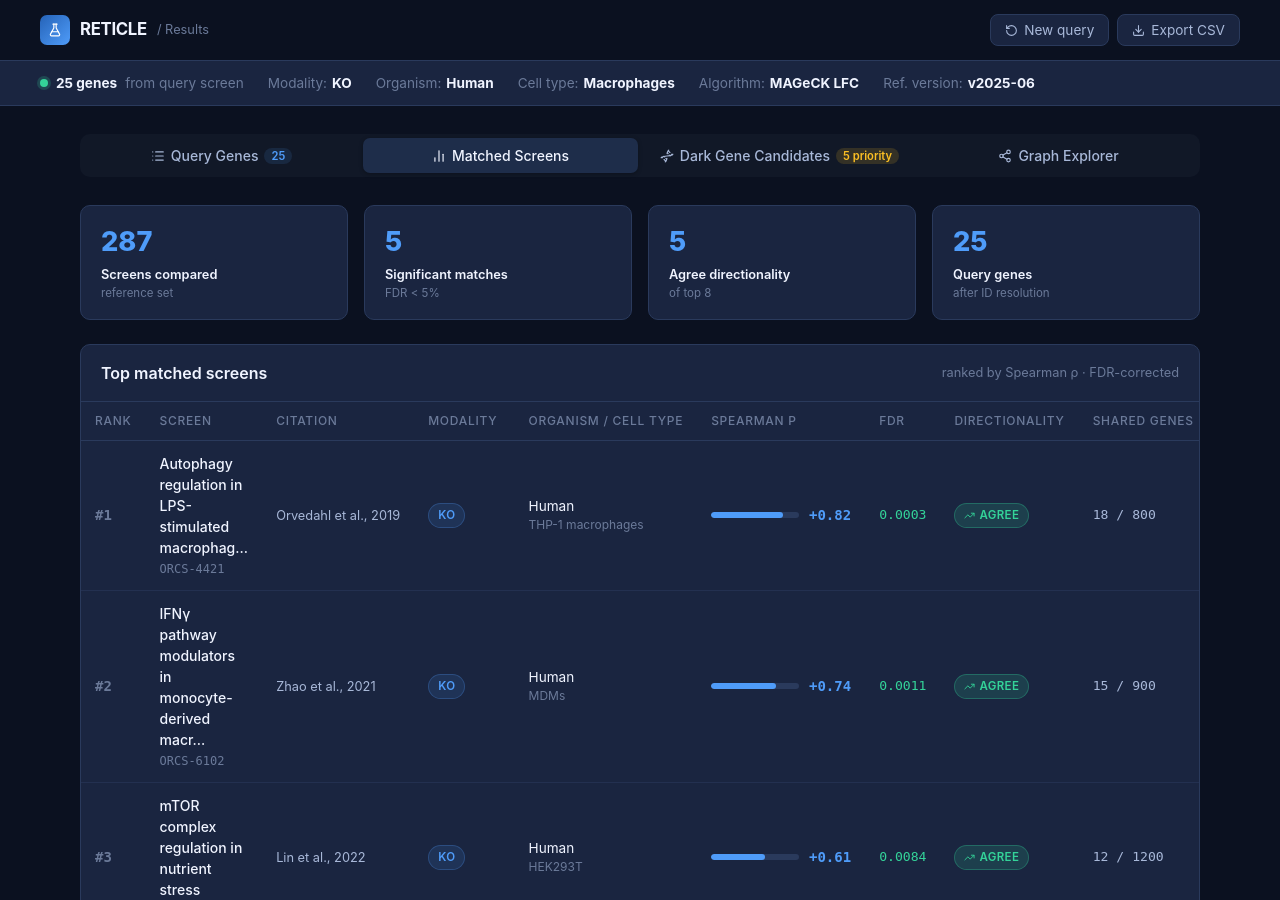
Test: ResultsPage › Query Genes tab shows the uploaded genes
The image size is (1280, 900).
Click the button "Query Genes 25". click: [222, 156]
box: [84,138,359,173]
(page scrolled)
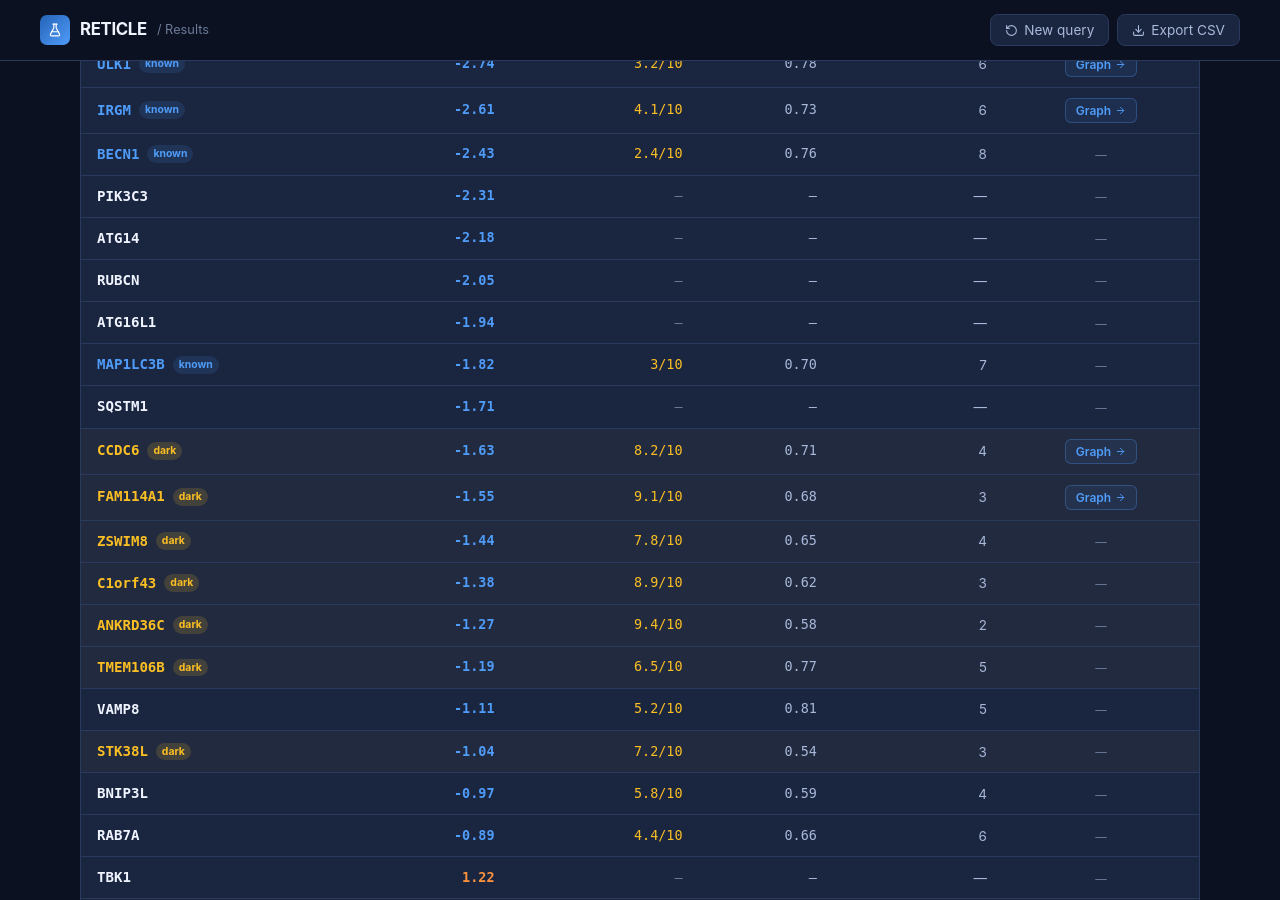
Now the text "CCDC6" is shown, box [97,440,139,462]
